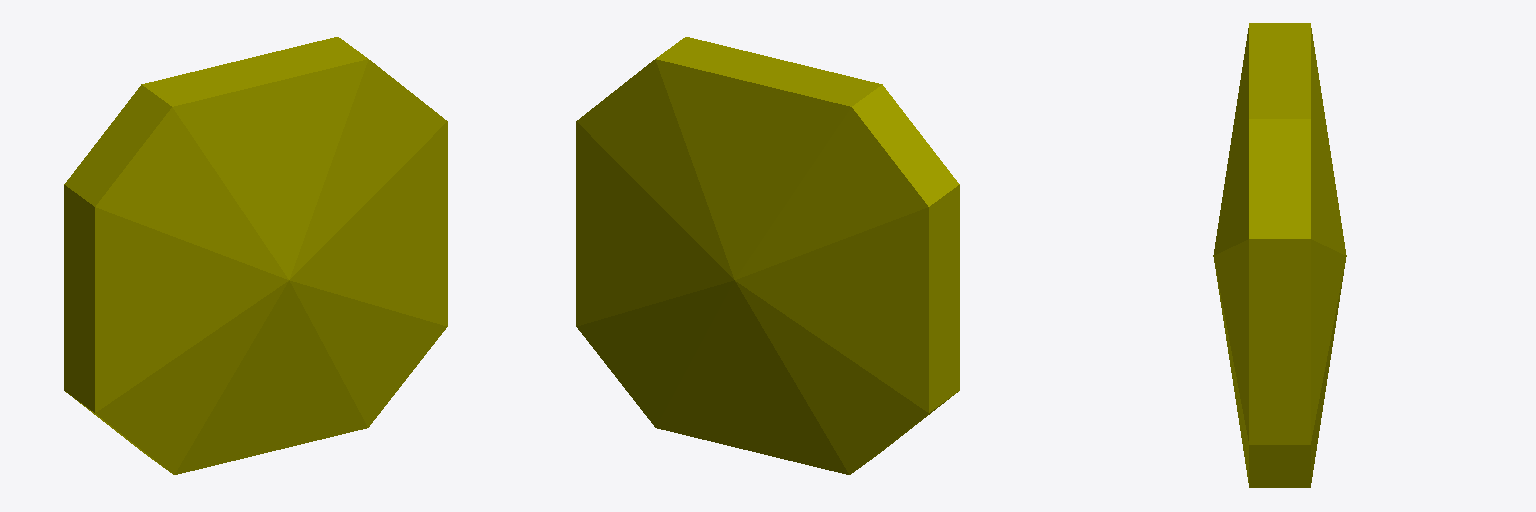
The model's file is piece.obj.
The picture shows the model from 3 angles: view 1: azimuth 30°, elevation 25°; view 2: azimuth 150°, elevation 25°; view 3: azimuth 270°, elevation 25°; orthographic projection.
Parts seen in each view (by area): view 1: Mesh1 default_group Cube_Cube_001 skp3E0_1 Model; view 2: Mesh1 default_group Cube_Cube_001 skp3E0_1 Model; view 3: Mesh1 default_group Cube_Cube_001 skp3E0_1 Model.
Boxes of the visible parts, <box> form: Mesh1 default_group Cube_Cube_001 skp3E0_1 Model: <box>64,37,447,474</box>; Mesh1 default_group Cube_Cube_001 skp3E0_1 Model: <box>576,37,959,474</box>; Mesh1 default_group Cube_Cube_001 skp3E0_1 Model: <box>1213,23,1346,487</box>.
Size of the model in its own units: 0.9989 by 0.9989 by 0.3267.